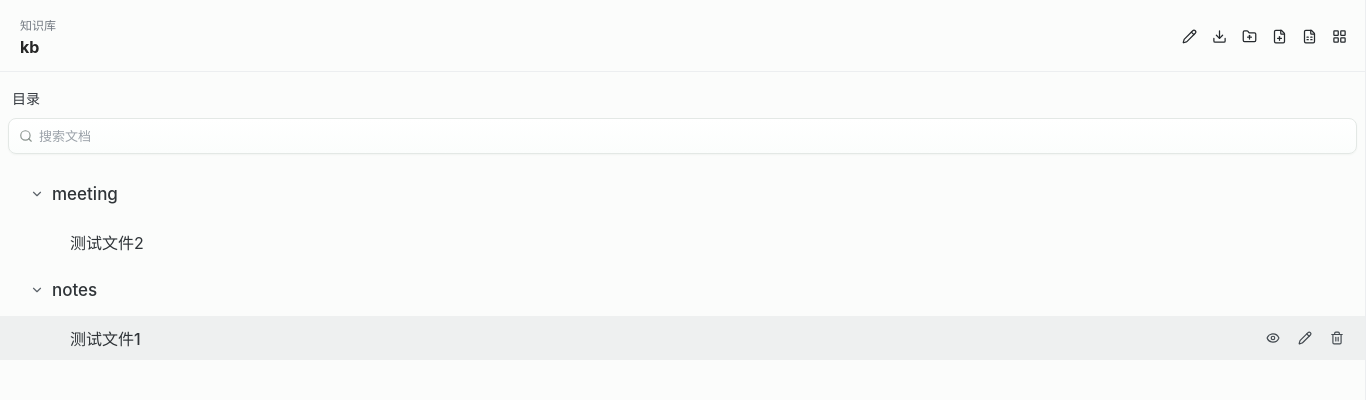
Scenario: 可以按文档名称搜索文档
In the search field labelled "搜索文档": (694, 136) [39,119,1348,153], type "测试文件2"
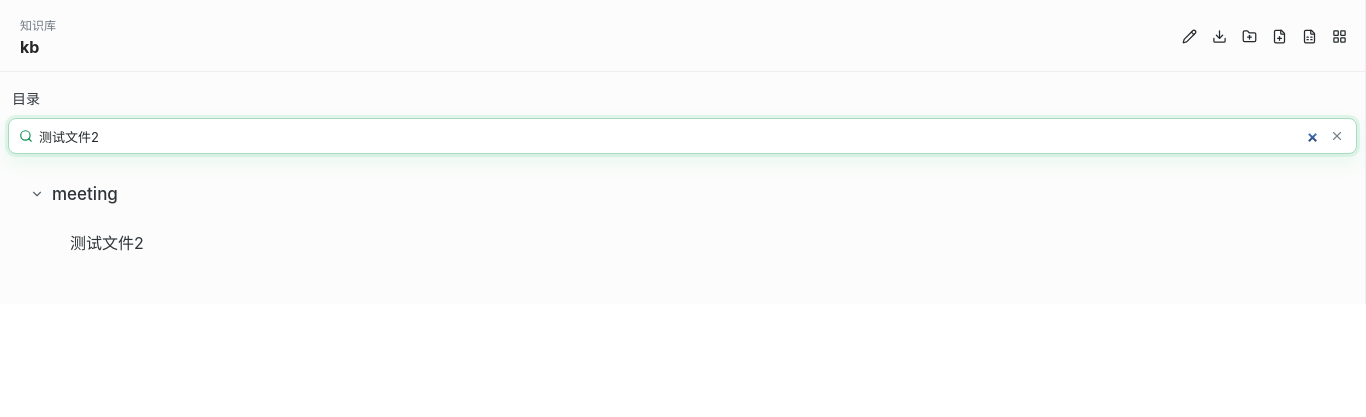
Expected: the list item "测试文件2" is shown, [70,233,144,253]
Expected: the text "测试文件1" is gone
Click the button named "清空搜索": (1337, 136) [1326,125,1348,147]
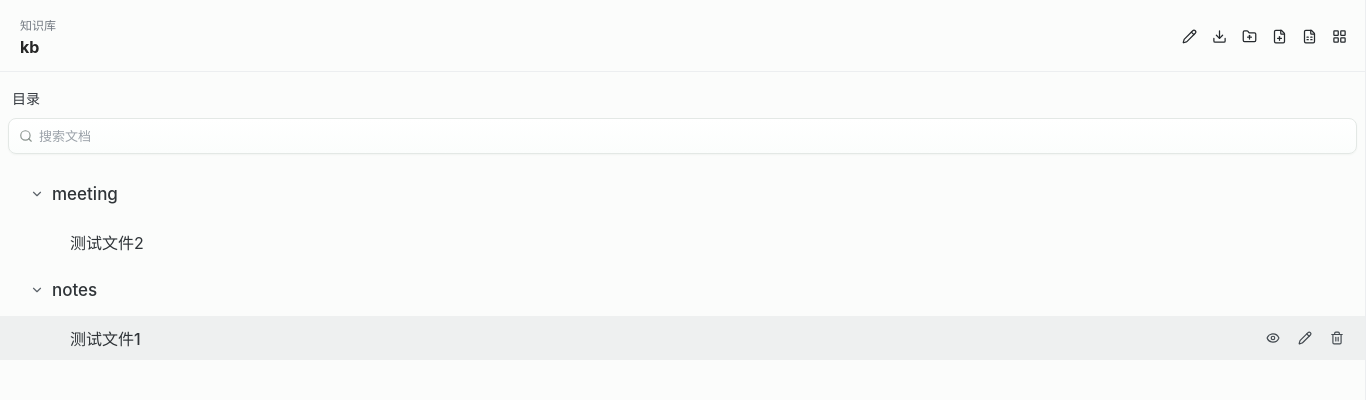
Expected: the list item "测试文件1" is shown, [0,316,1365,360]
